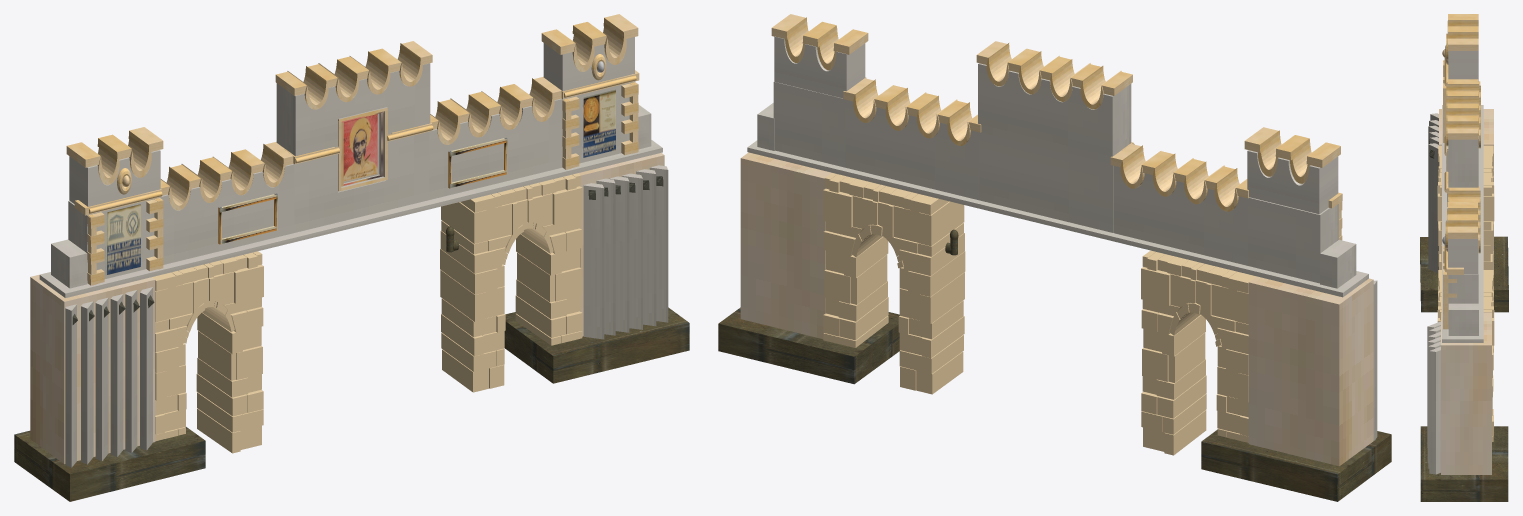
File: jegol_combined_3.obj
3 views of the same model, side by side, from view 1: azimuth 30°, elevation 25°; view 2: azimuth 150°, elevation 25°; view 3: azimuth 270°, elevation 25° (orthographic). The views are drawn at different scales.
Parts seen in each view (by area): view 1: Cube_Cube_Material.001, Cube_Cube_doors, Cube_Cube_basement, Cube_Cube_beside_door, Cube_Cube_right_corner_img, Cube_Cube_Material, Cube_Cube_unesco; view 2: Cube_Cube_doors, Cube_Cube_Material.001, Cube_Cube_beside_door, Cube_Cube_basement; view 3: Cube_Cube_Material.001, Cube_Cube_doors, Cube_Cube_beside_door, Cube_Cube_basement.
Boxes of the visible parts, x1=… form: Cube_Cube_Material.001: x1=39, y1=37, x2=668, y2=467; Cube_Cube_doors: x1=66, y1=14, x2=639, y2=453; Cube_Cube_basement: x1=14, y1=176, x2=689, y2=501; Cube_Cube_beside_door: x1=30, y1=153, x2=664, y2=463; Cube_Cube_right_corner_img: x1=218, y1=89, x2=615, y2=244; Cube_Cube_Material: x1=341, y1=111, x2=384, y2=186; Cube_Cube_unesco: x1=105, y1=204, x2=140, y2=275; Cube_Cube_doors: x1=771, y1=14, x2=1342, y2=455; Cube_Cube_Material.001: x1=747, y1=36, x2=1377, y2=440; Cube_Cube_beside_door: x1=740, y1=152, x2=1373, y2=466; Cube_Cube_basement: x1=718, y1=229, x2=1391, y2=501; Cube_Cube_Material.001: x1=1427, y1=51, x2=1483, y2=474; Cube_Cube_doors: x1=1437, y1=14, x2=1494, y2=441; Cube_Cube_beside_door: x1=1439, y1=109, x2=1493, y2=474; Cube_Cube_basement: x1=1420, y1=139, x2=1508, y2=501.
Size of what is drawn, in the model's own units: 185 by 99 by 28.57.
